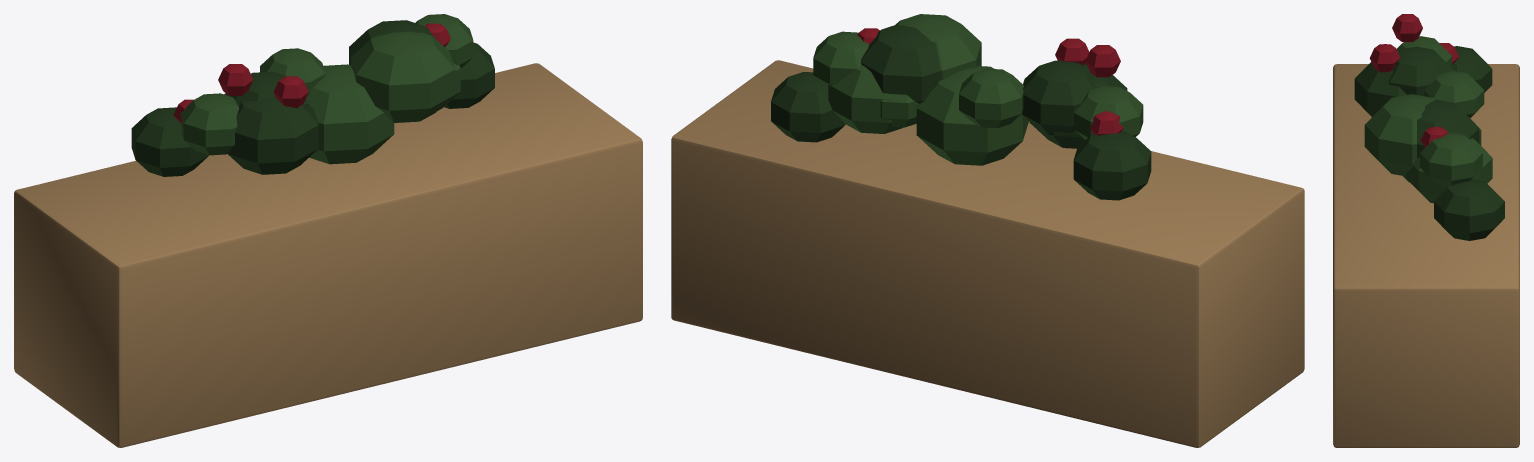
The model's file is mae_planter.glb.
3 renders of one model, left to right at view 1: azimuth 30°, elevation 25°; view 2: azimuth 150°, elevation 25°; view 3: azimuth 270°, elevation 25°, orthographic. The views are drawn at different scales.
Visible parts, largest first — view 1: mae_planter; view 2: mae_planter; view 3: mae_planter.
Boxes of the visible parts, box(x1,y1,x2,y2) form: mae_planter: box(14, 14, 642, 447); mae_planter: box(671, 14, 1304, 447); mae_planter: box(1333, 14, 1519, 447).
Bounding box in the file's own units: 1.2 × 0.6905 × 0.42.
